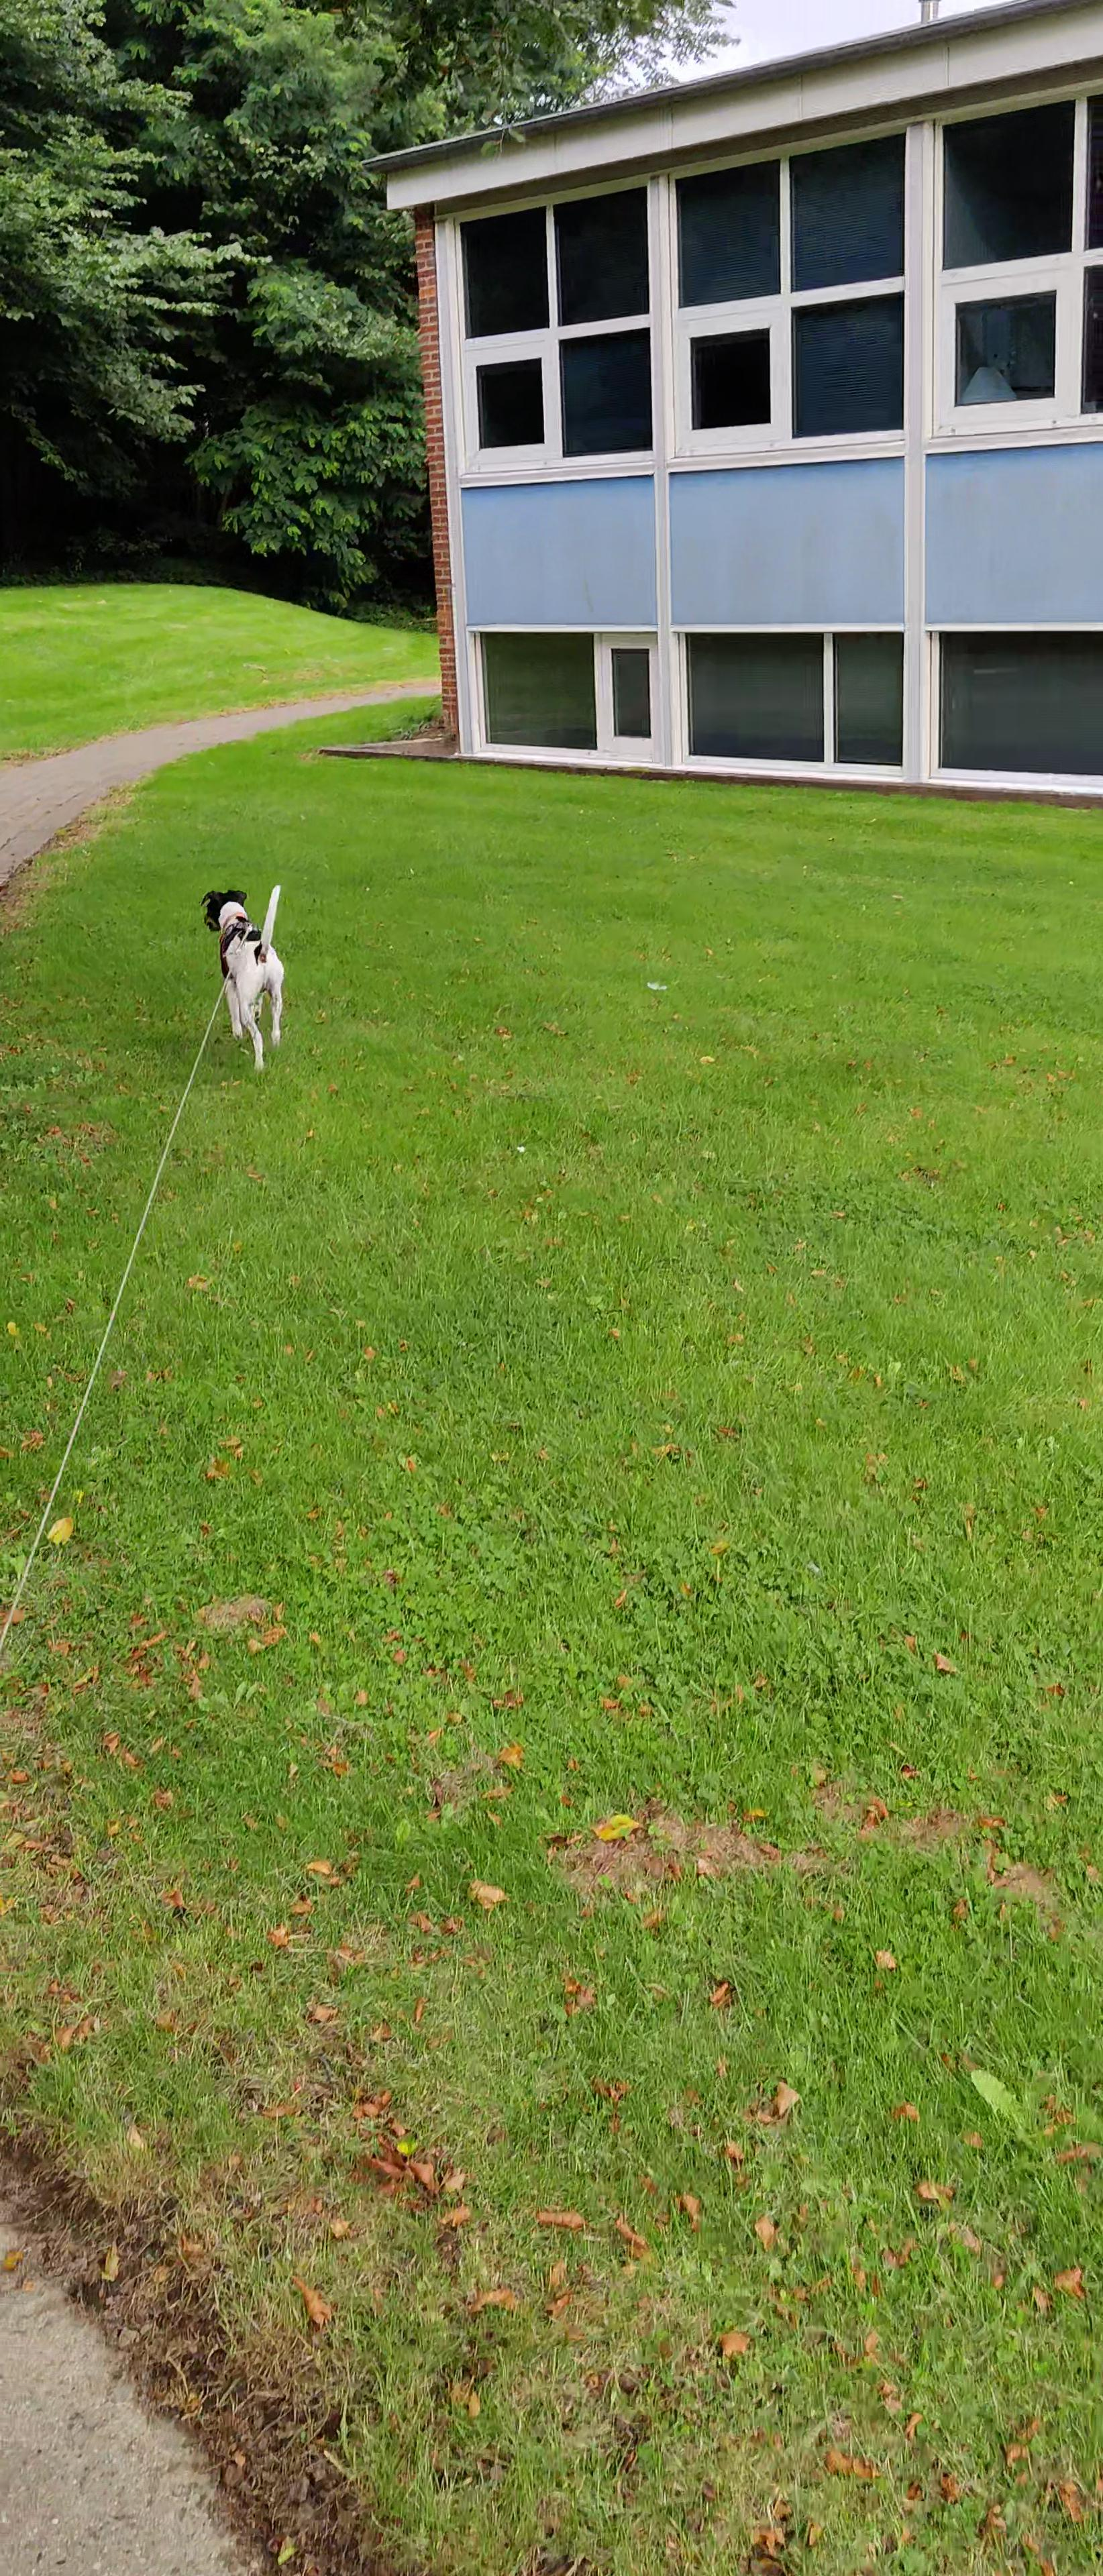Dog: (189, 874, 311, 1078)
